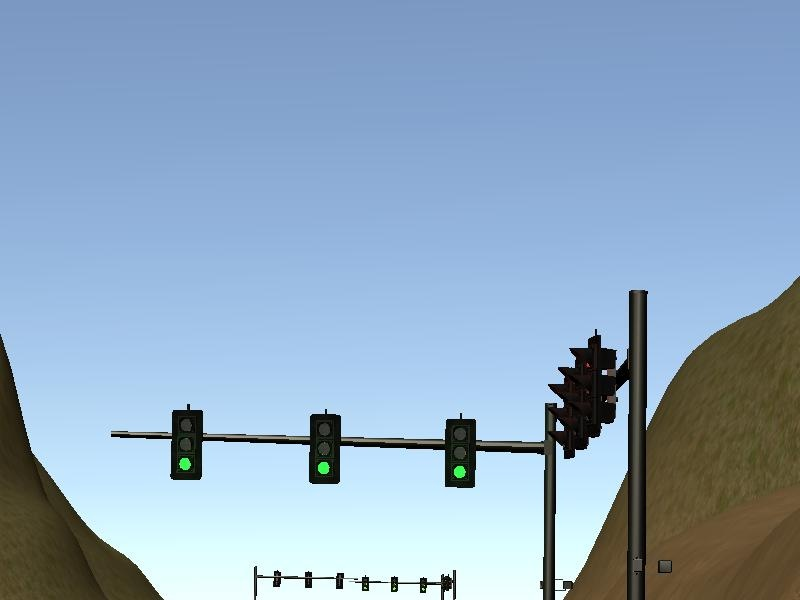GREEN: (305, 410, 343, 488), (444, 417, 477, 489), (171, 409, 203, 479)
